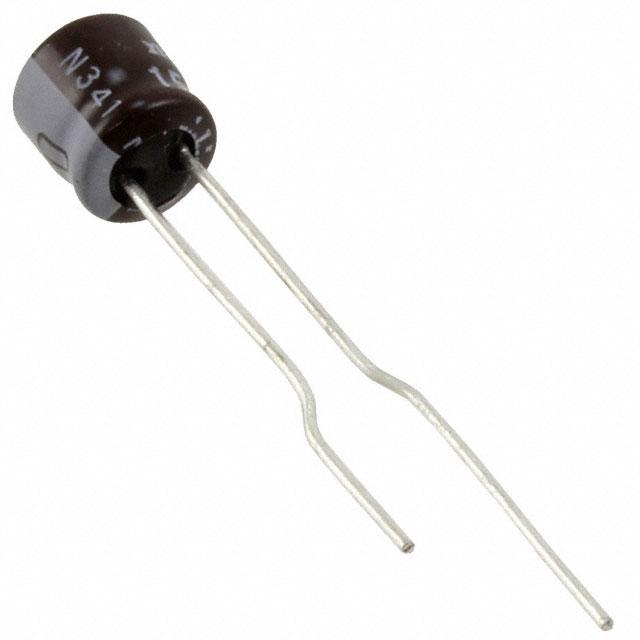Resistor: (10, 10, 602, 592)
